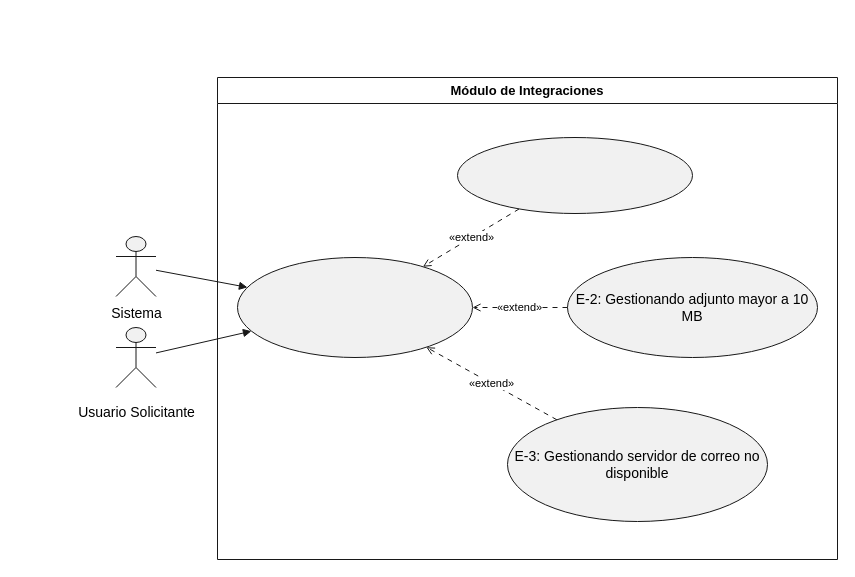
Image size: 855x577. Some labels were removed from this diagram. Each missing label, with the centre of its shape:
CU-54: Creando tickets automáticamente vía ingesta de email: the point at 354,307
E-1: Gestionando emisor no registrado: the point at 574,175
